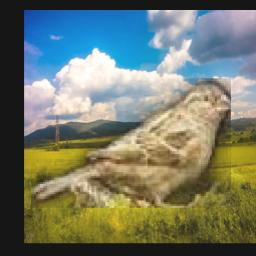Sparrow: (32, 78, 232, 208)
